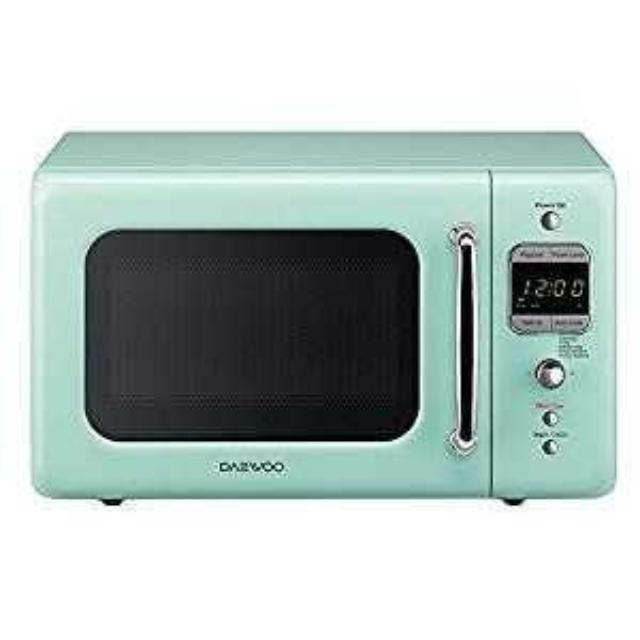Oven: (31, 161, 620, 497)
